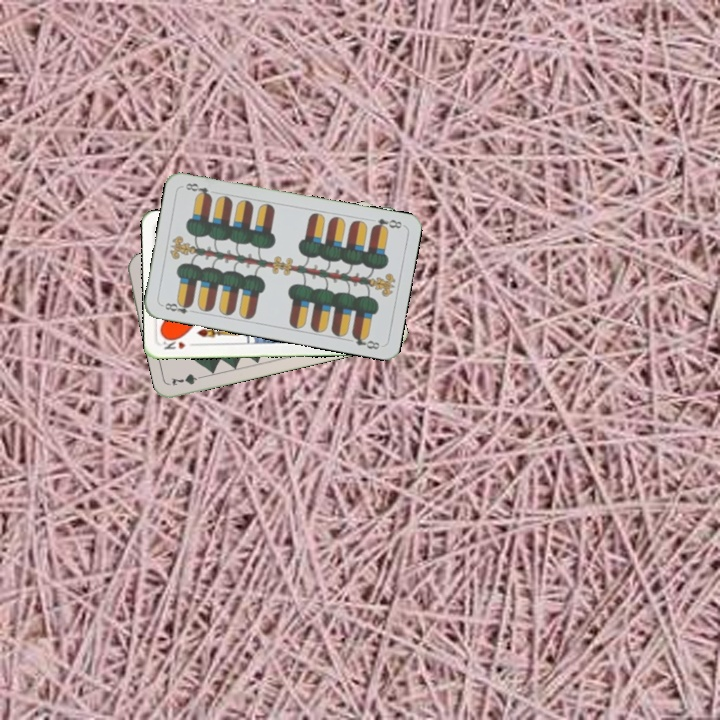E8: (158, 297, 198, 316), (368, 214, 405, 233)
G7: (167, 370, 208, 388)
HK: (159, 334, 199, 352)
